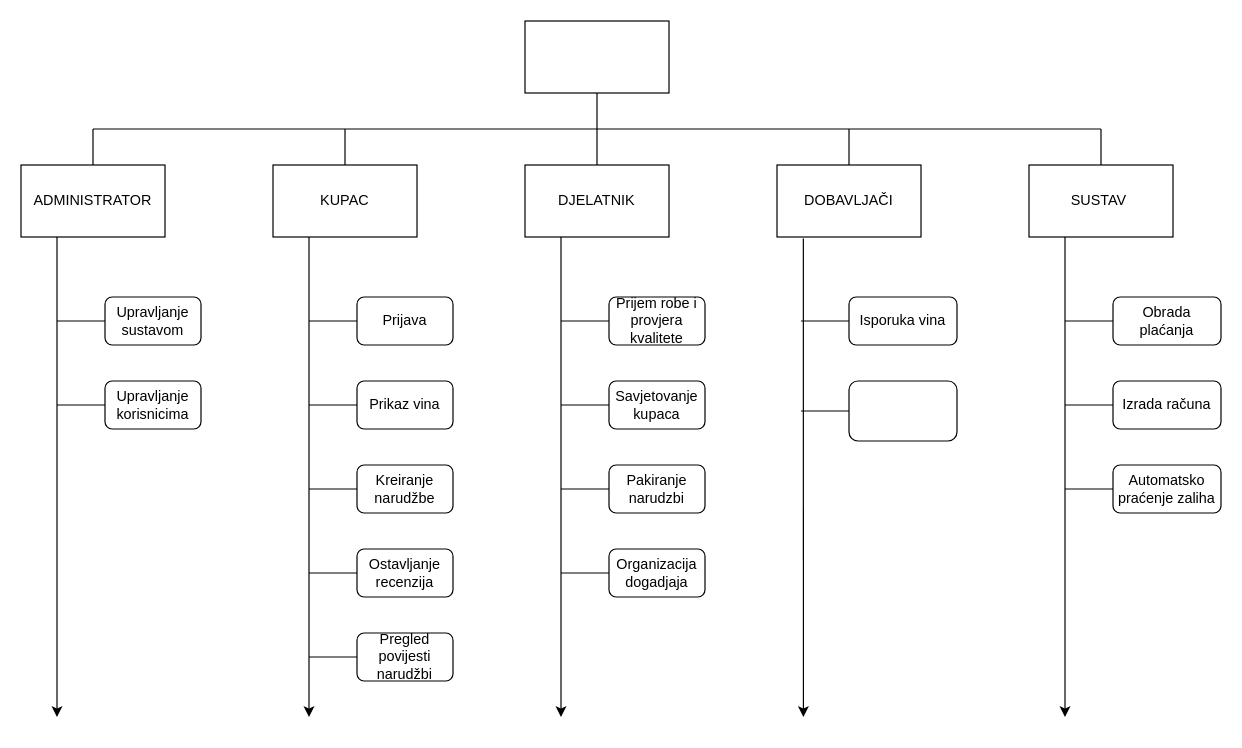
Image size: 1242x748. Some labels were removed from this diagram. Here are the shapes that lost their labels. From the top down, the box of each, then its label:
(524, 20, 669, 93): VINOTEKA
(848, 380, 957, 441): Obavještavanje o novim proizvodima
